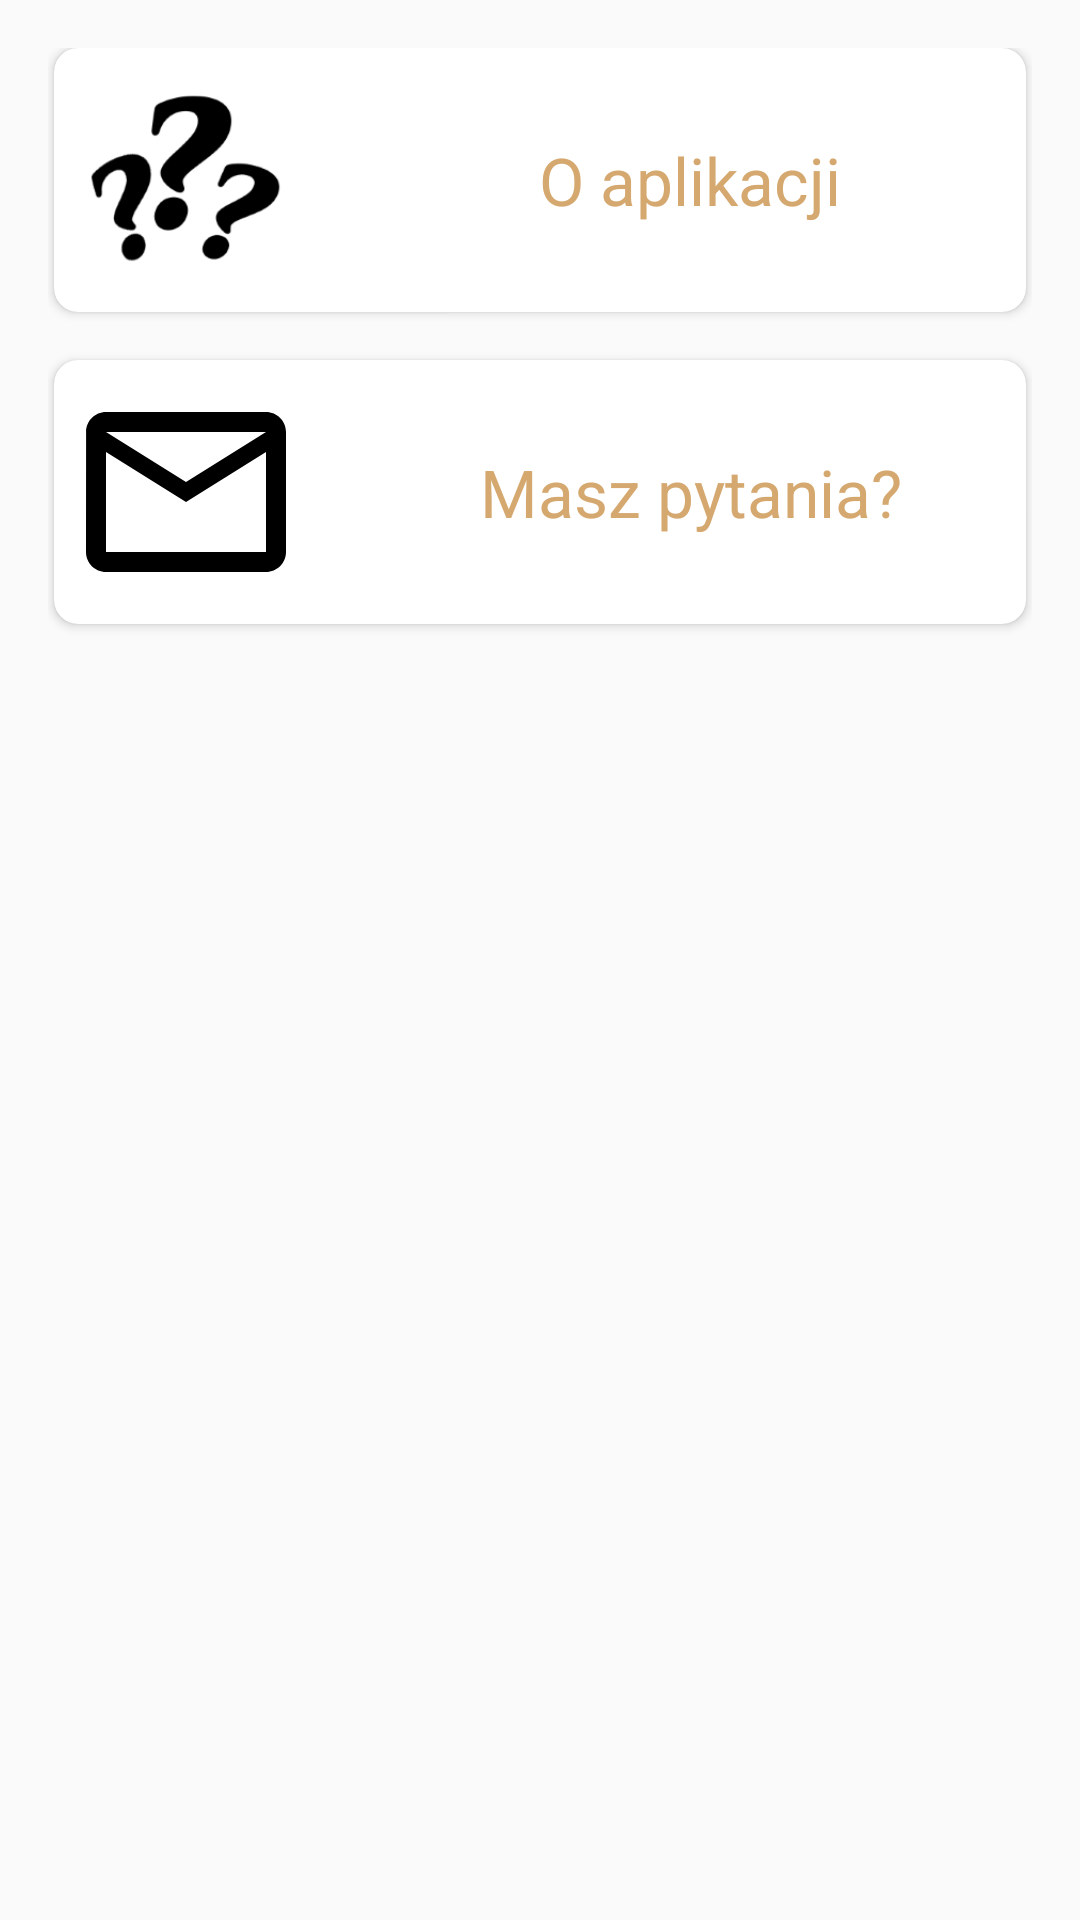

Where to tap for icons on this 1080*1920 app screen, as point (x, y):
mail: point (186, 492)
what is it: point (185, 178)
